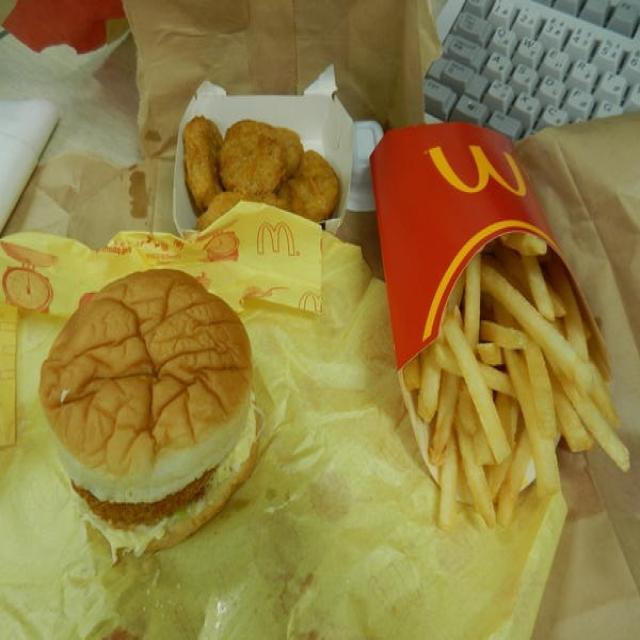French Fries: (404, 218, 631, 534)
Hamburger: (42, 254, 270, 558)
